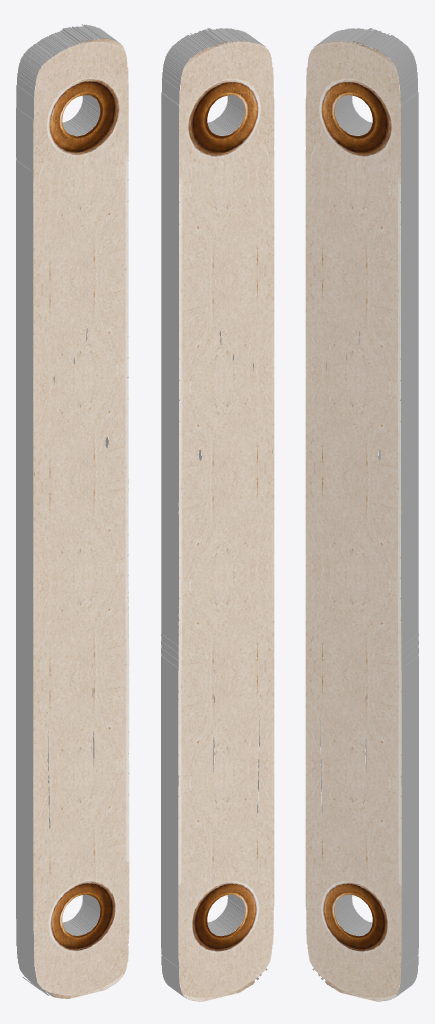
The model's file is UpperLeg.glb.
3 views of the same model, side by side, from view 1: azimuth 30°, elevation 25°; view 2: azimuth 210°, elevation 25°; view 3: azimuth 330°, elevation 25° (orthographic).
Visible parts, largest first — view 1: PaperVolume; view 2: PaperVolume; view 3: PaperVolume.
Part boxes in pixels (x1,y1,x2,y2): PaperVolume: (16,24,129,998); PaperVolume: (161,28,274,1001); PaperVolume: (305,28,418,1001).
Bounding box in the file's own units: 0.2599 × 2.4 × 0.08.
3 materials, 2 textured.
